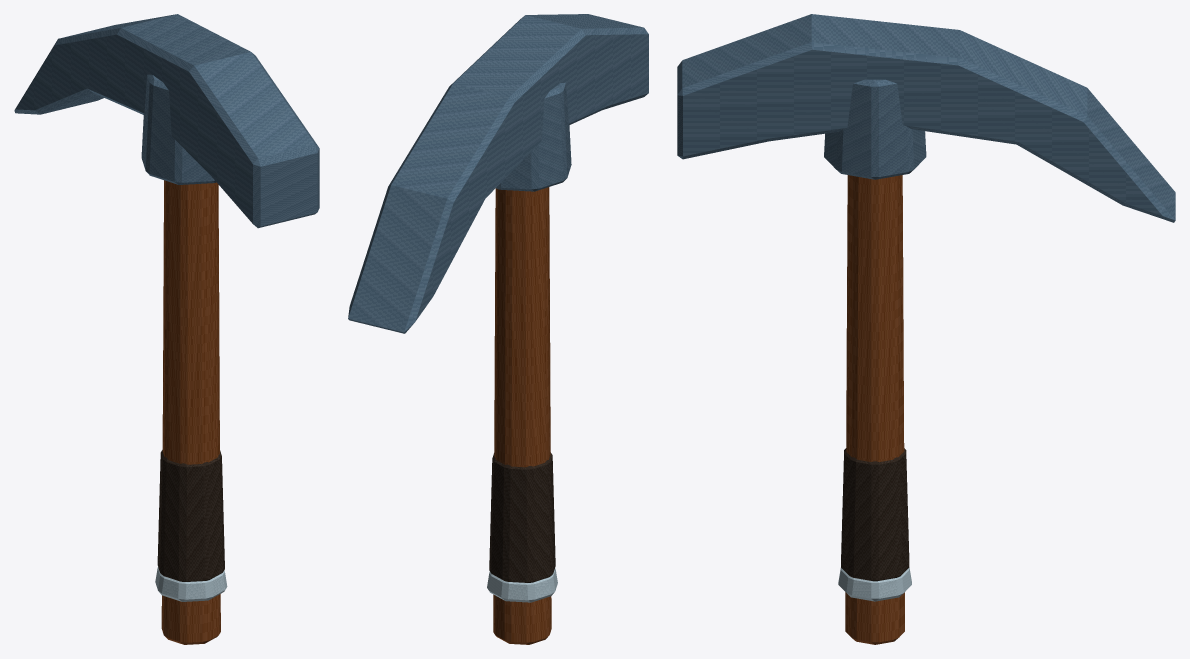
File: basic-pickaxe.glb
3 renders of one model, left to right at view 1: azimuth 30°, elevation 25°; view 2: azimuth 150°, elevation 25°; view 3: azimuth 270°, elevation 25°, orthographic. The views are drawn at different scales.
Visible parts, largest first — view 1: BasicPickaxe; view 2: BasicPickaxe; view 3: BasicPickaxe.
Boxes of the visible parts, x1,y1,x2,y2 form: BasicPickaxe: (14, 14, 319, 644); BasicPickaxe: (348, 14, 648, 644); BasicPickaxe: (677, 14, 1175, 644).
Size of the model in its own units: 0.1446 by 0.945 by 0.7051.
1 material, 1 textured.
